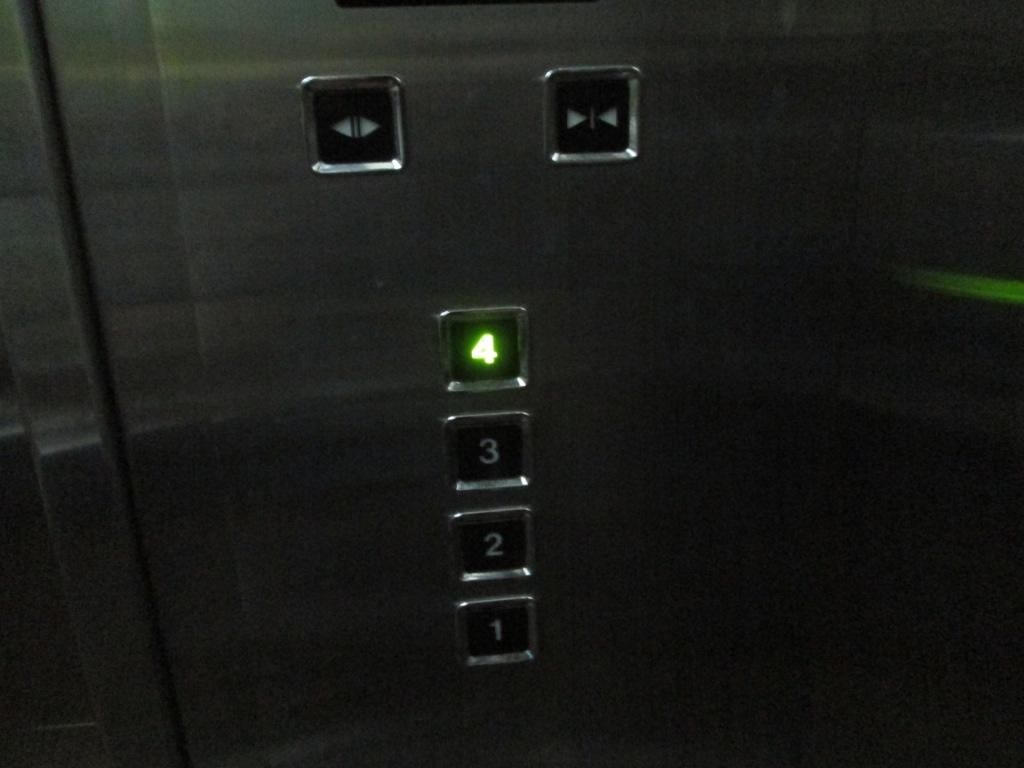1: (454, 593, 540, 671)
2: (447, 505, 537, 586)
3: (441, 410, 534, 498)
4: (434, 300, 532, 395)
close: (539, 64, 643, 163)
open: (297, 73, 407, 176)
